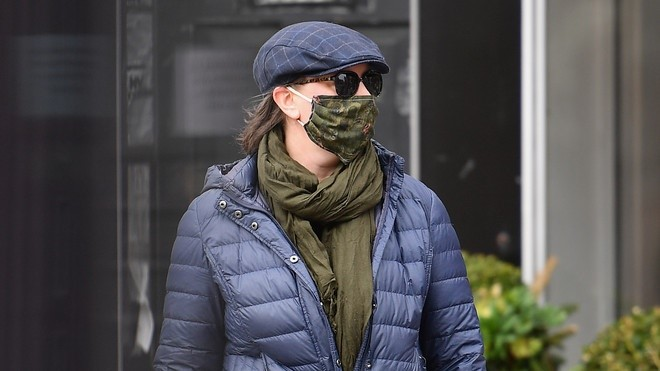face_with_mask: (263, 33, 391, 181)
